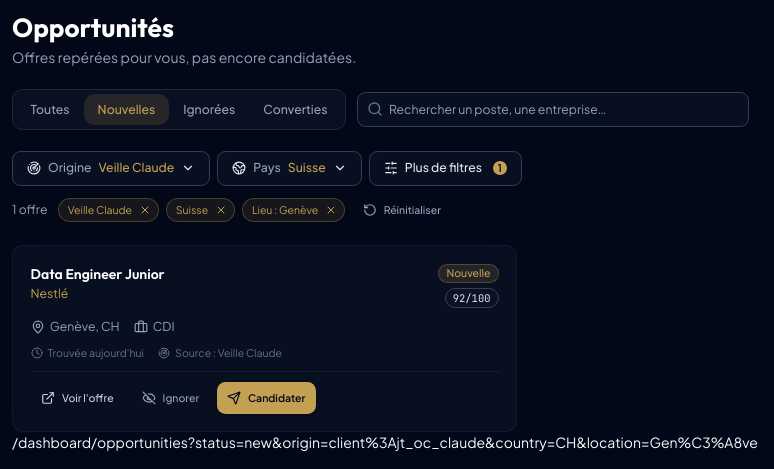
it: Opportunités — filtres et URL › pastilles supprimables et réinitialisation (le statut est conservé)
Click the button named "Retirer le filtre Suisse". click: (221, 210)
box: [212,200,231,220]
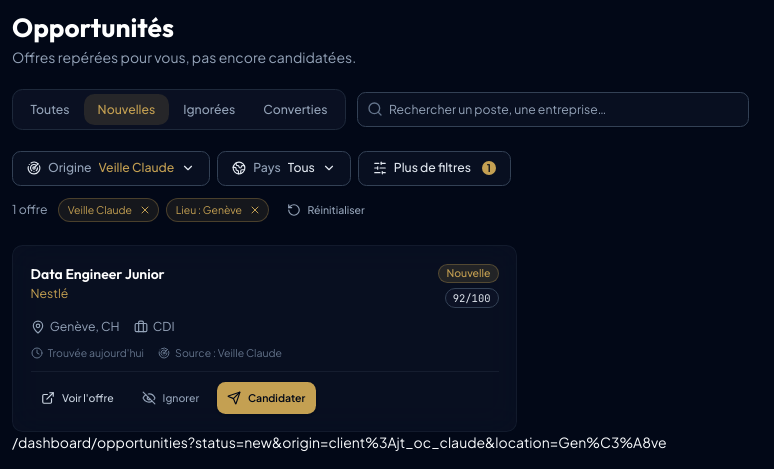
Click the button with test id "filter-reset". click: (326, 210)
box: [276,196,375,224]
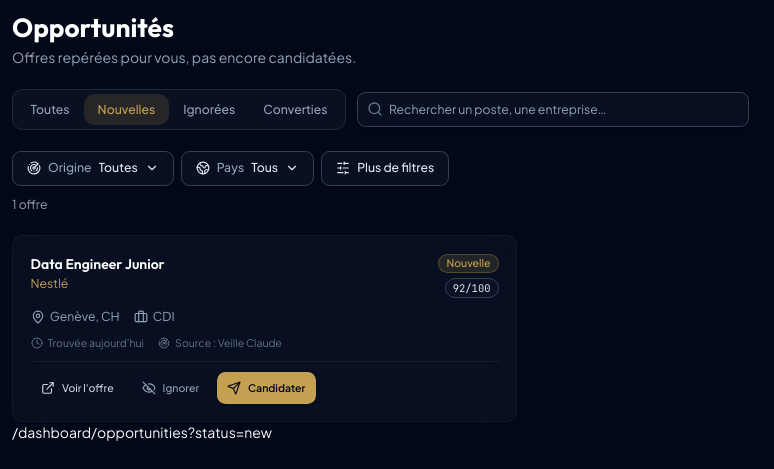
Expected: the text with test id "location" reads "/dashboard/opportunities?status=new", [12,423,272,441]
Expected: the list with test id "filter-chips" is gone
